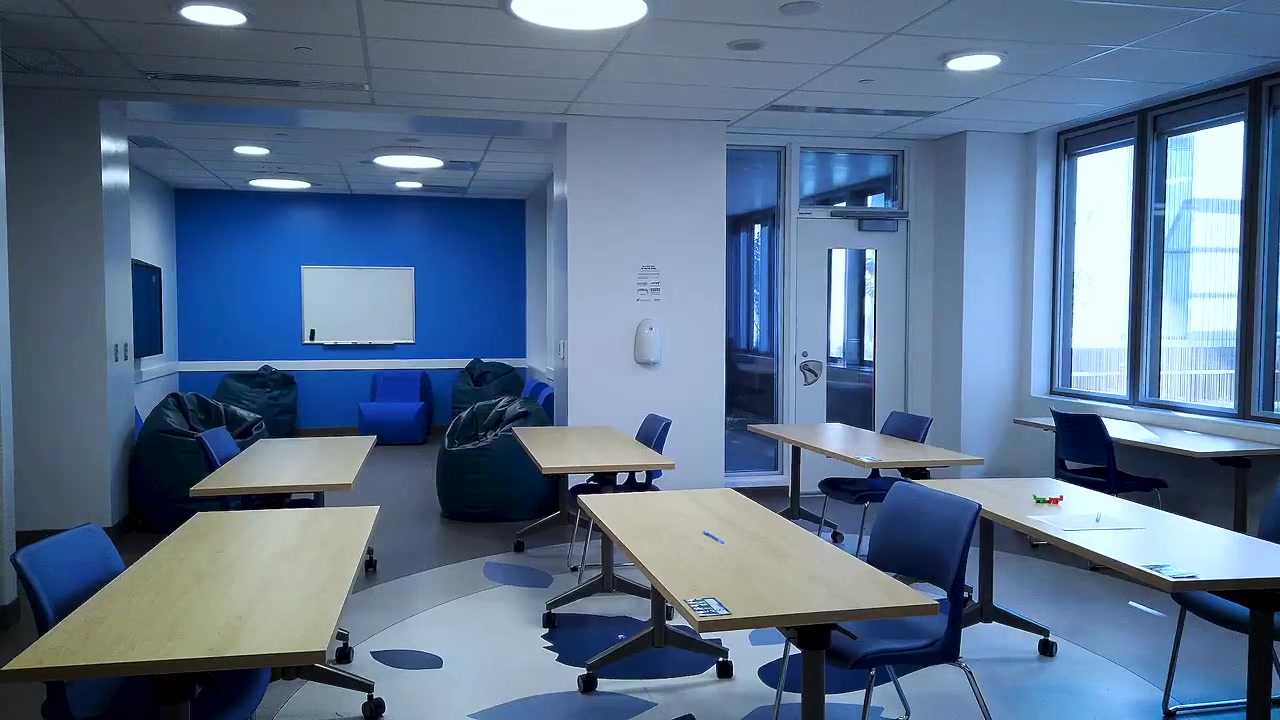chair: (771, 481, 994, 720), (1, 523, 270, 720), (1158, 479, 1280, 720), (1028, 406, 1173, 572), (818, 411, 933, 561), (566, 413, 670, 573), (195, 427, 313, 521)
dispenser: (635, 317, 662, 364)
door_handle: (799, 360, 823, 387)
sofa: (132, 391, 280, 534), (436, 396, 557, 524), (211, 363, 297, 438), (358, 367, 437, 446), (450, 358, 525, 431)
table: (911, 475, 1280, 717), (576, 486, 940, 720), (1, 505, 388, 720), (510, 425, 676, 628), (745, 423, 985, 542), (189, 435, 377, 577), (1013, 415, 1280, 479)
